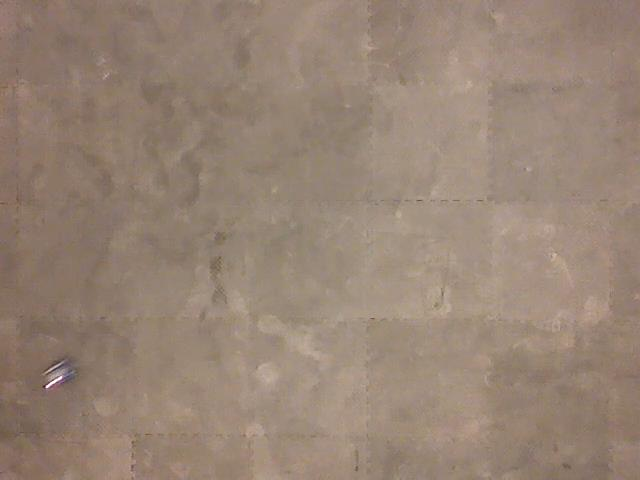Agent: (38, 356, 79, 393)
